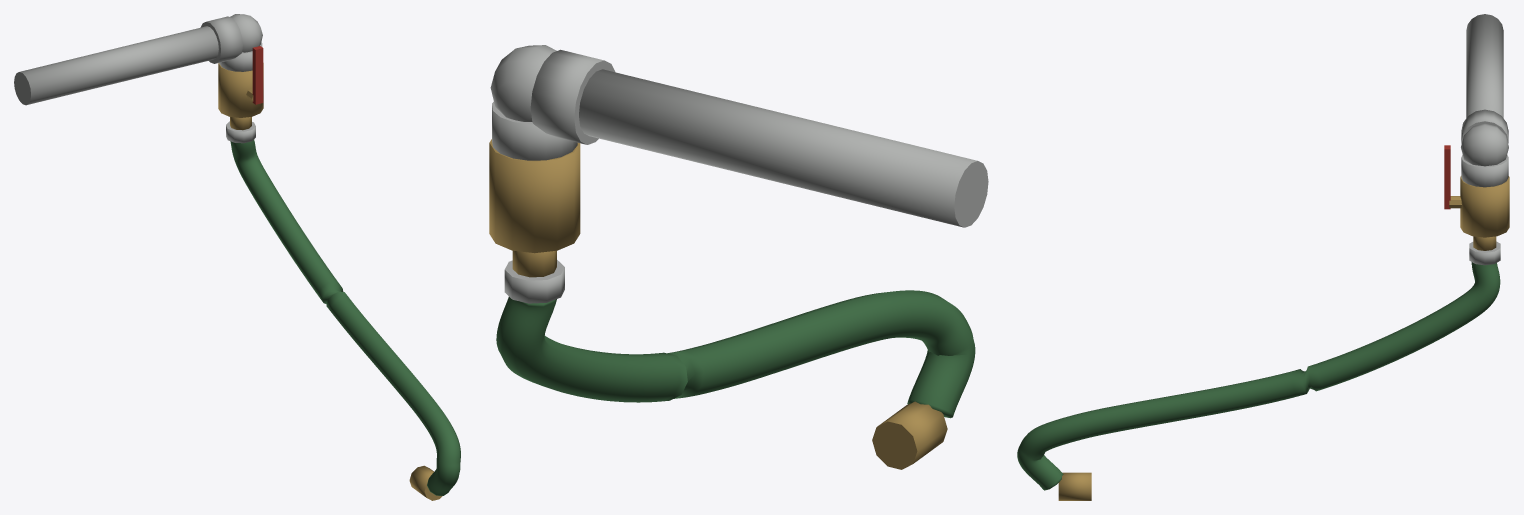
File: barrel_fill_bend3.obj
3 views of the same model, side by side, from view 1: azimuth 30°, elevation 25°; view 2: azimuth 150°, elevation 25°; view 3: azimuth 270°, elevation 25° (orthographic). The views are drawn at different scales.
Parts seen in each view (by area): view 1: hose, pipe8, valve_body, elbow_socket8, elbow_hub, valve_lever, nozzle, elbow_socket1; view 2: pipe8, hose, valve_body, elbow_socket8, nozzle, elbow_hub, elbow_socket1, hose_collar, hose_barb; view 3: hose, pipe8, valve_body, elbow_hub, elbow_socket1, nozzle, elbow_socket8.
Boxes of the visible parts, x1,y1,x2,y2 form: hose: (230, 139, 460, 495); pipe8: (14, 26, 218, 105); valve_body: (218, 63, 263, 117); elbow_socket8: (200, 16, 242, 63); elbow_hub: (230, 14, 262, 52); valve_lever: (252, 46, 263, 104); nozzle: (409, 465, 442, 500); elbow_socket1: (219, 42, 262, 71); pipe8: (579, 69, 988, 227); hose: (496, 290, 975, 418); valve_body: (489, 139, 580, 253); elbow_socket8: (530, 49, 615, 144); nozzle: (872, 401, 947, 469); elbow_hub: (490, 45, 556, 121); elbow_socket1: (492, 101, 577, 160); hose_collar: (504, 260, 564, 303); hose_barb: (512, 250, 556, 277); hose: (1017, 262, 1500, 490); pipe8: (1466, 14, 1503, 117); valve_body: (1460, 176, 1509, 237); elbow_hub: (1461, 123, 1508, 166); elbow_socket1: (1461, 155, 1508, 187); nozzle: (1058, 472, 1091, 500); elbow_socket8: (1461, 109, 1508, 143).
Size of the model in its own units: 0.554 by 0.7486 by 0.8942.
Materials: 4 (4 with a texture image).
